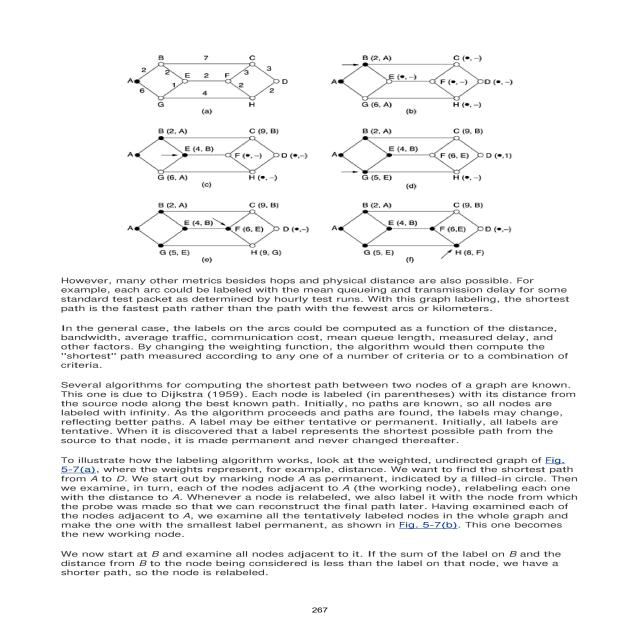diagram: (58, 40, 587, 318)
